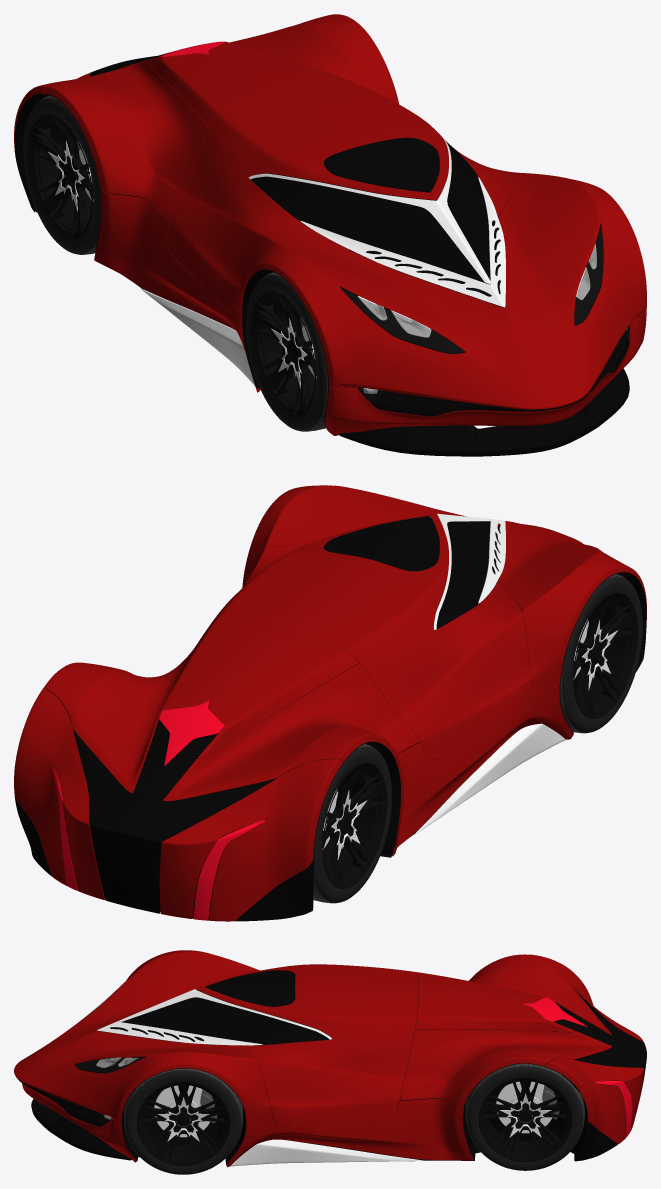
The model's file is seraph-r-source.glb.
3 views of the same model, one above another, from view 1: azimuth 30°, elevation 25°; view 2: azimuth 150°, elevation 25°; view 3: azimuth 270°, elevation 25° (orthographic). The views are drawn at different scales.
Visible parts, largest first — view 1: Object_15, Object_10, Object_13, Object_22, Object_17, Object_9, Object_11, Object_7, Object_23, Object_2, Object_14, Object_24 (+4 smaller); view 2: Object_10, Object_12, Object_13, Object_15, Object_18, Object_11, Object_22, Object_9, Object_23, Object_2, Object_24, Object_8 (+5 smaller); view 3: Object_10, Object_15, Object_13, Object_9, Object_22, Object_2, Object_11, Object_23, Object_12, Object_7, Object_24, Object_19 (+10 smaller).
Boxes of the visible parts, x1,y1,x2,y2 form: Object_15: (233, 173, 646, 409); Object_10: (167, 80, 522, 309); Object_13: (44, 14, 399, 219); Object_22: (251, 137, 490, 281); Object_17: (14, 150, 629, 456); Object_9: (94, 190, 260, 392); Object_11: (147, 41, 347, 125); Object_7: (15, 93, 629, 430); Object_23: (28, 116, 316, 415); Object_2: (23, 98, 327, 431); Object_14: (325, 313, 646, 435); Object_24: (28, 114, 316, 416); Object_10: (207, 513, 530, 759); Object_12: (14, 687, 343, 921); Object_13: (44, 629, 419, 801); Object_15: (242, 485, 646, 696); Object_18: (73, 720, 274, 913); Object_11: (147, 619, 358, 758); Object_22: (324, 516, 490, 628); Object_9: (392, 685, 573, 856); Object_23: (321, 594, 637, 887); Object_2: (282, 576, 642, 902); Object_24: (322, 592, 637, 888); Object_8: (53, 700, 265, 920); Object_10: (195, 964, 418, 1126); Object_15: (14, 950, 273, 1124); Object_13: (400, 954, 612, 1105); Object_9: (226, 1099, 473, 1167); Object_22: (122, 970, 328, 1044); Object_2: (125, 1066, 583, 1174); Object_11: (415, 972, 574, 1031); Object_23: (138, 1078, 570, 1162); Object_12: (545, 959, 644, 1143); Object_7: (48, 973, 628, 1163); Object_24: (137, 1077, 572, 1165); Object_19: (109, 989, 424, 1166).
Bounding box in the file's own units: 2 × 1.1 × 4.65.
Materials: 13 (1 with a texture image).
